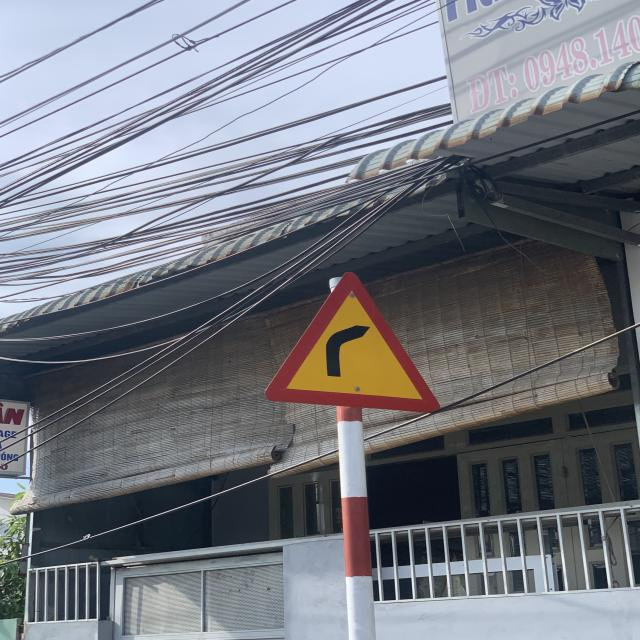Duong_Nguoi_Di_Bo_Cat_Ngang: (264, 272, 441, 412)
